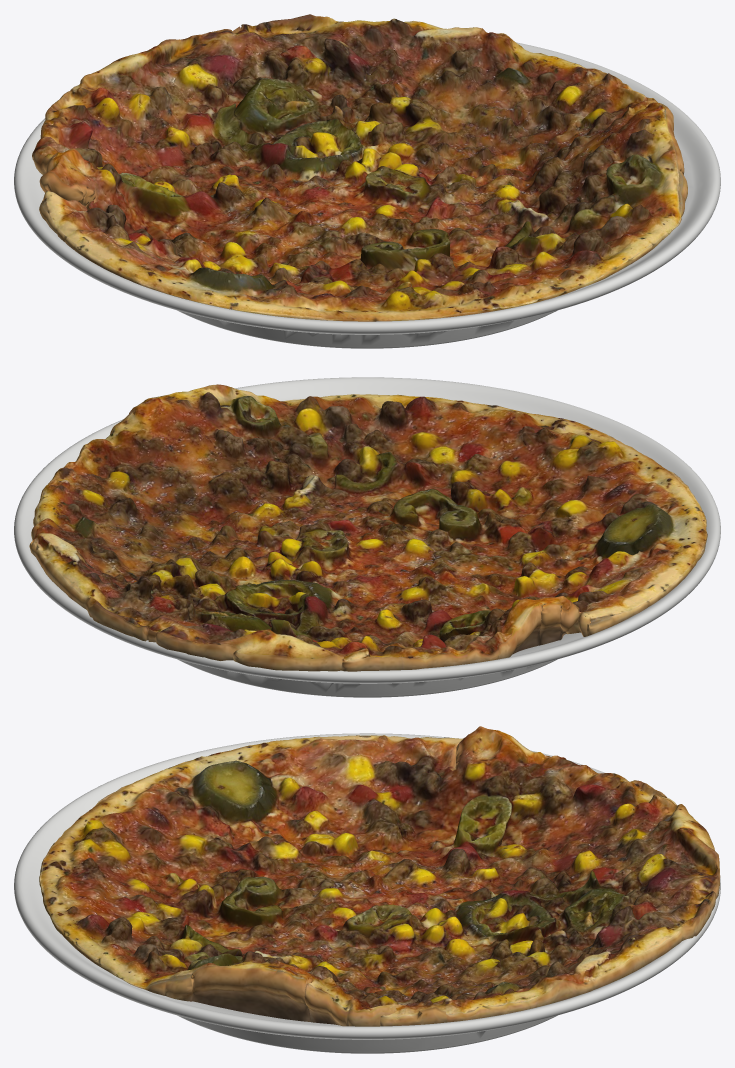
The model's file is pizza.glb.
3 views of the same model, one above another, from view 1: azimuth 30°, elevation 25°; view 2: azimuth 150°, elevation 25°; view 3: azimuth 270°, elevation 25° (orthographic).
Parts seen in each view (by area): view 1: pizza, plate; view 2: pizza, plate; view 3: pizza, plate.
Boxes of the visible parts, x1,y1,x2,y2 form: pizza: [32, 14, 687, 321]; plate: [14, 42, 720, 348]; pizza: [29, 384, 707, 671]; plate: [14, 377, 720, 697]; pizza: [39, 726, 720, 1026]; plate: [14, 733, 720, 1053].
Bounding box in the file's own units: 0.2638 × 0.0434 × 0.2639.
Materials: 2 (1 with a texture image).
